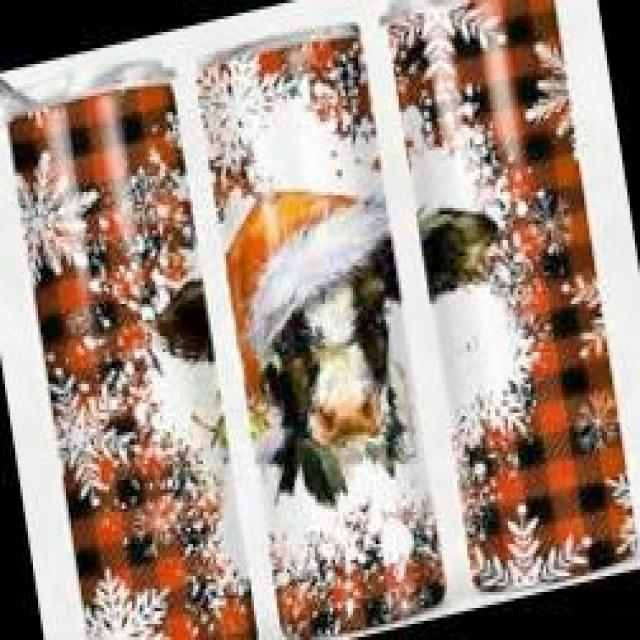bottle: (183, 6, 457, 640), (368, 0, 640, 611), (0, 32, 264, 640)
